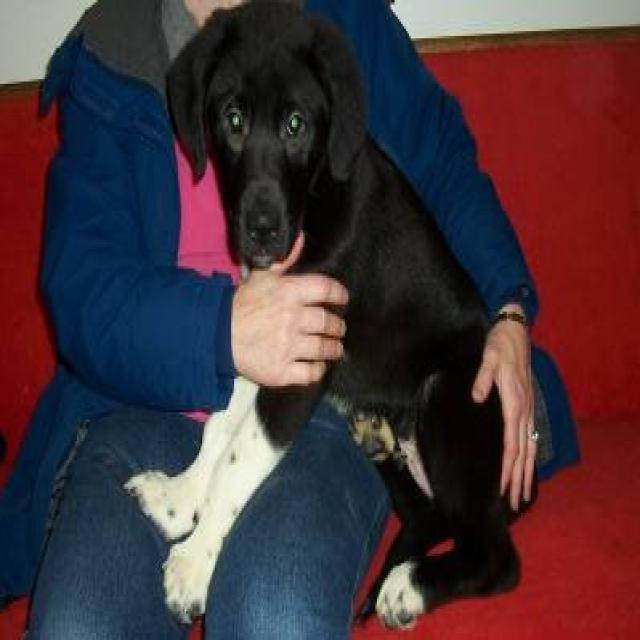dog: (122, 0, 537, 633)
